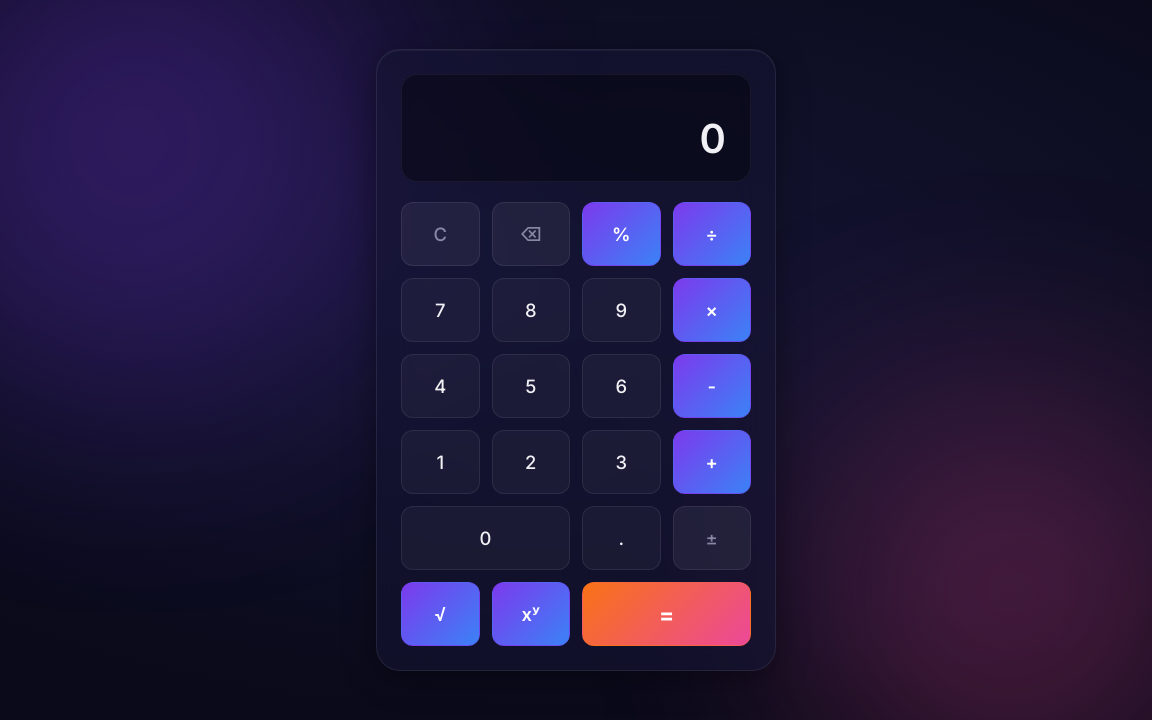
Test: Calculator Component › inputs digits and displays them
Click the button "1" at [440, 462], box [401,430,480,494]
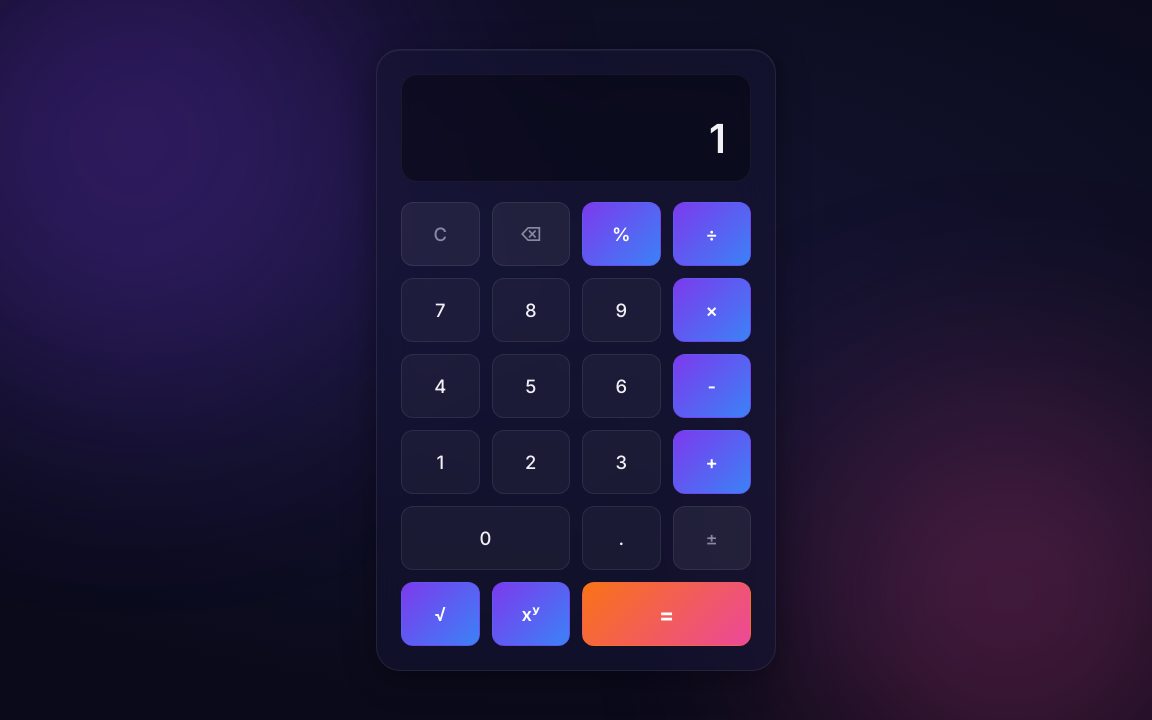
Click the button "2" at [531, 462], box [492,430,570,494]
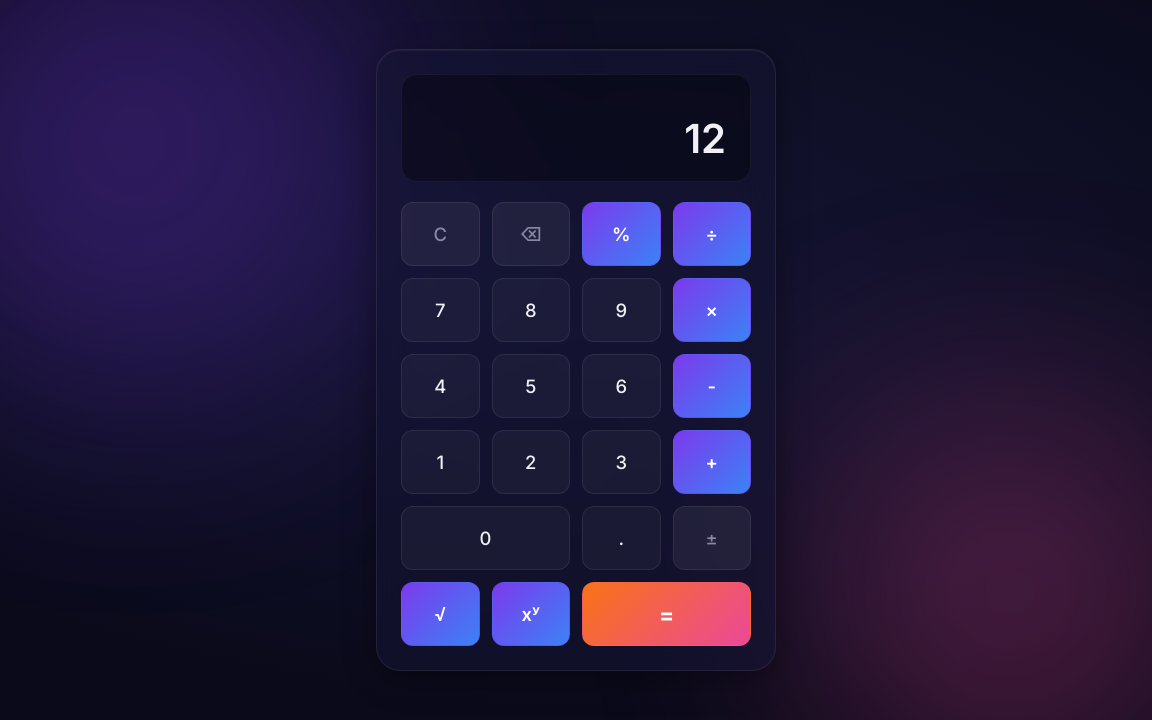
Click the button "3" at [621, 462], box [582,430,660,494]
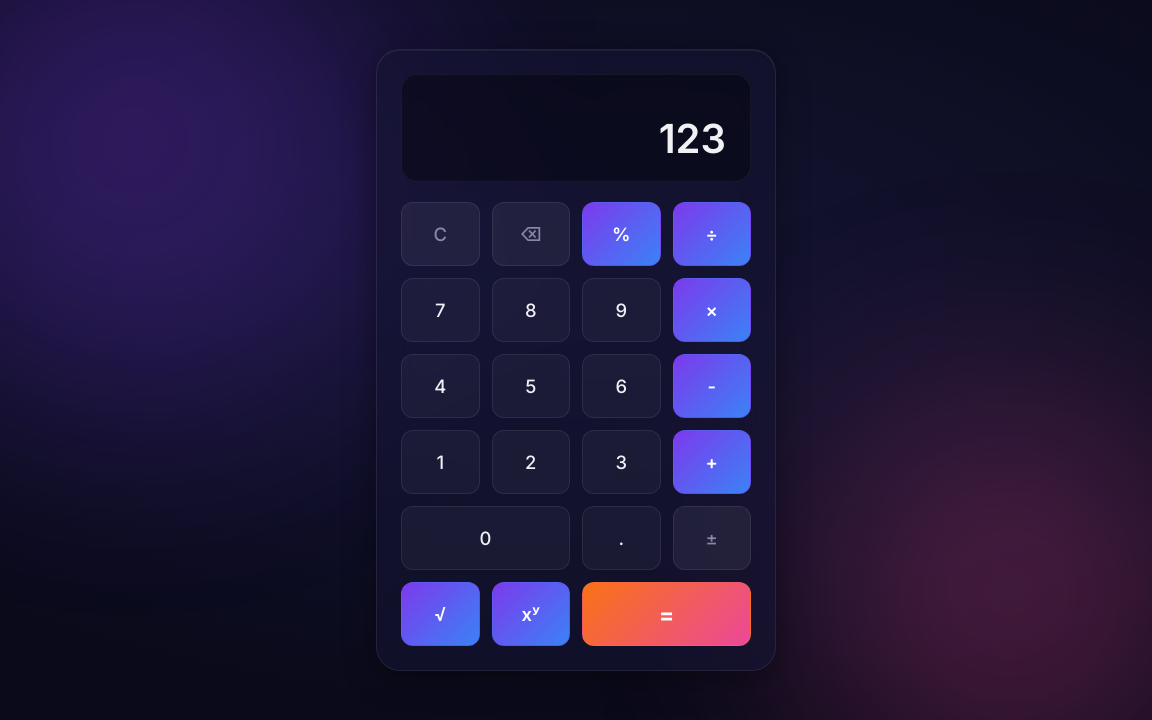
Check: the text "123" is shown, box [659,114,726,163]
